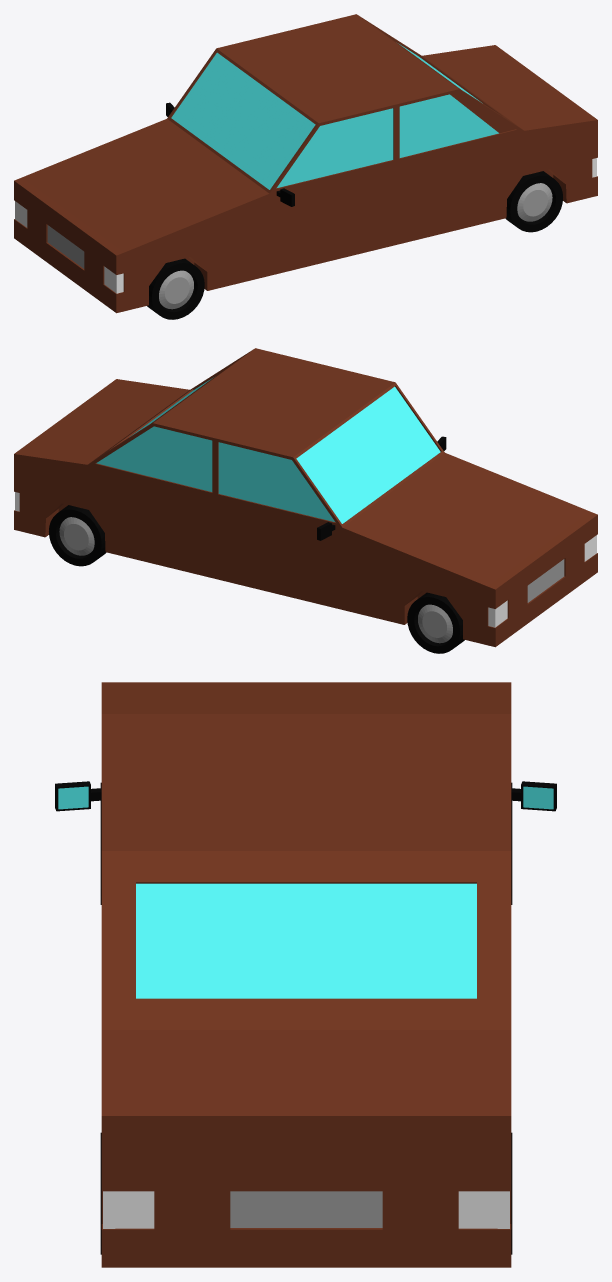
Rendered from Coche.obj.
The picture shows the model from 3 angles, top to bottom: view 1: azimuth 30°, elevation 25°; view 2: azimuth 150°, elevation 25°; view 3: azimuth 270°, elevation 25°; orthographic projection. The views are drawn at different scales.
Visible parts, largest first — view 1: Coche:Mesh; view 2: Coche:Mesh; view 3: Coche:Mesh.
Boxes of the visible parts, x1,y1,x2,y2 form: Coche:Mesh: (14,14,597,319); Coche:Mesh: (14,348,597,653); Coche:Mesh: (55,682,556,1267).
Size of the model in its own units: 5.43 by 1.74 by 2.45.
1 material, 1 textured.
